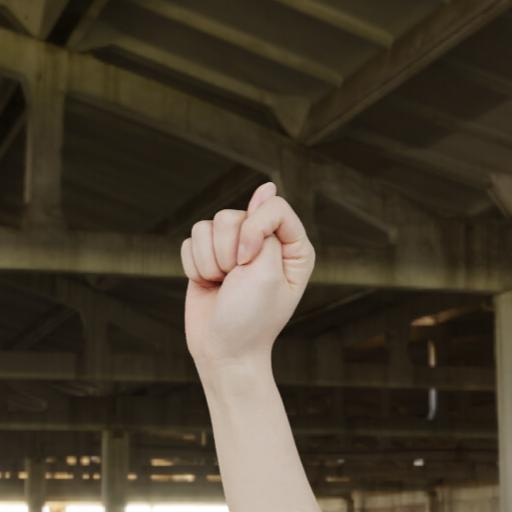T: (134, 147, 389, 424)
